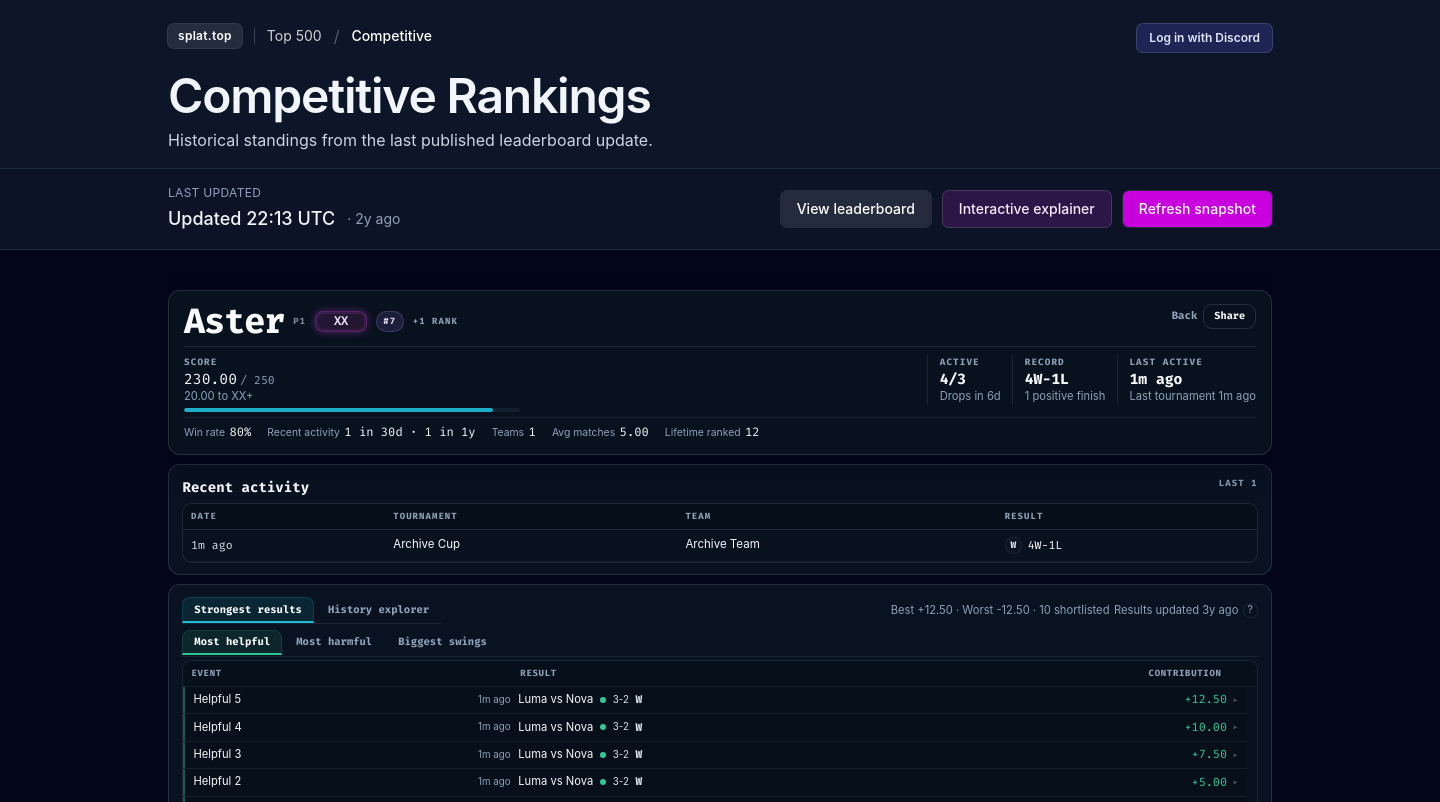
Test: CompetitionPlayerPage › switches between strongest results and history tabs
The width and height of the screenshot is (1440, 802).
Expected: the text "Helpful 5" is shown, [193,692,241,706]
Expected: the text "Harmful 5" is not shown
Click the button "Most harmful" at point(334, 642), box [284,630,384,655]
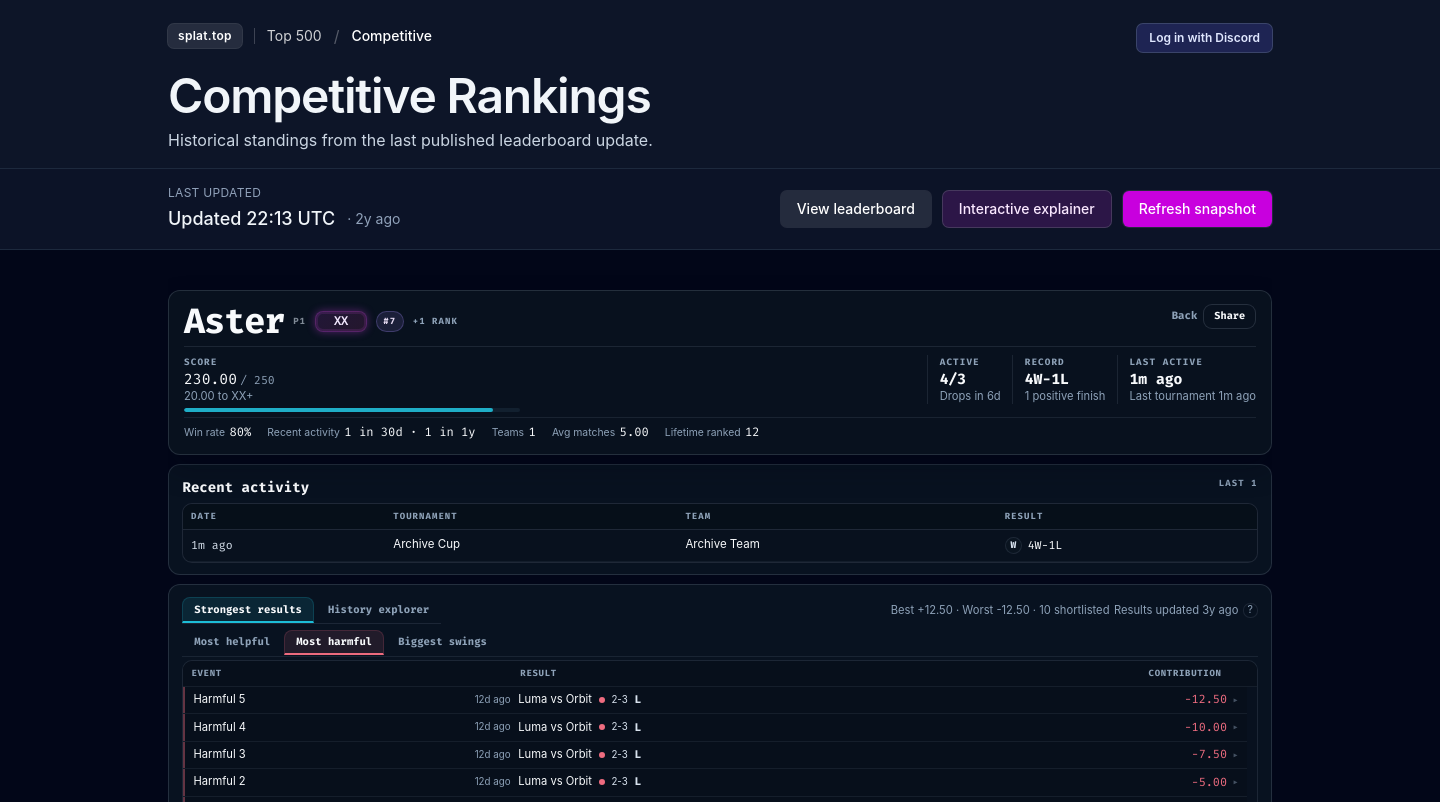
Now the text "Harmful 5" is shown, box [193,692,245,706]
Now the link "Helpful 5" is gone
Click the button "Biggest swings" at point(442, 642), box [386,630,499,655]
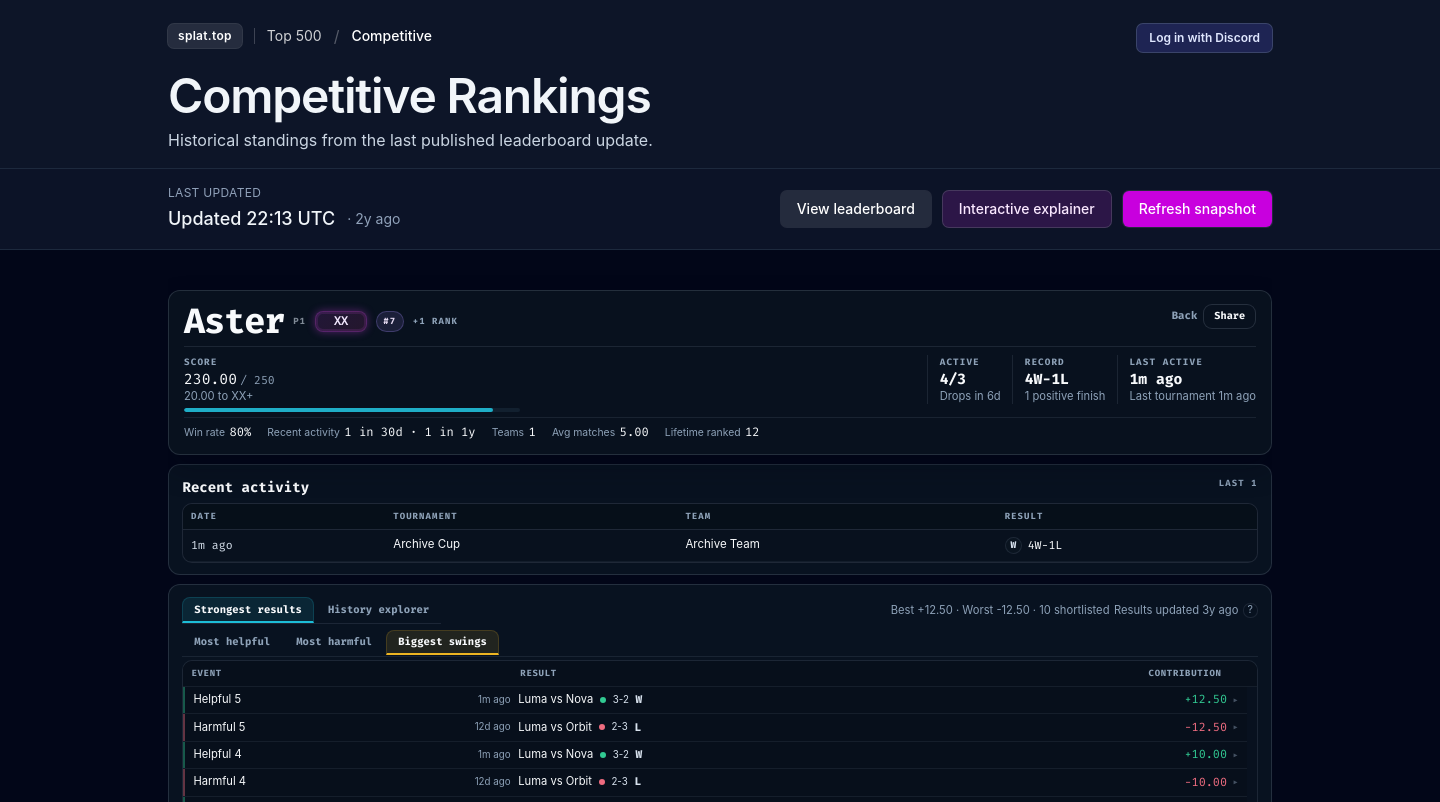
Now the text "Harmful 5" is shown, box [193,720,245,734]
Now the text "Helpful 5" is shown, box [193,692,241,706]
Click the tab "History explorer" at point(378, 610), box [316,597,441,622]
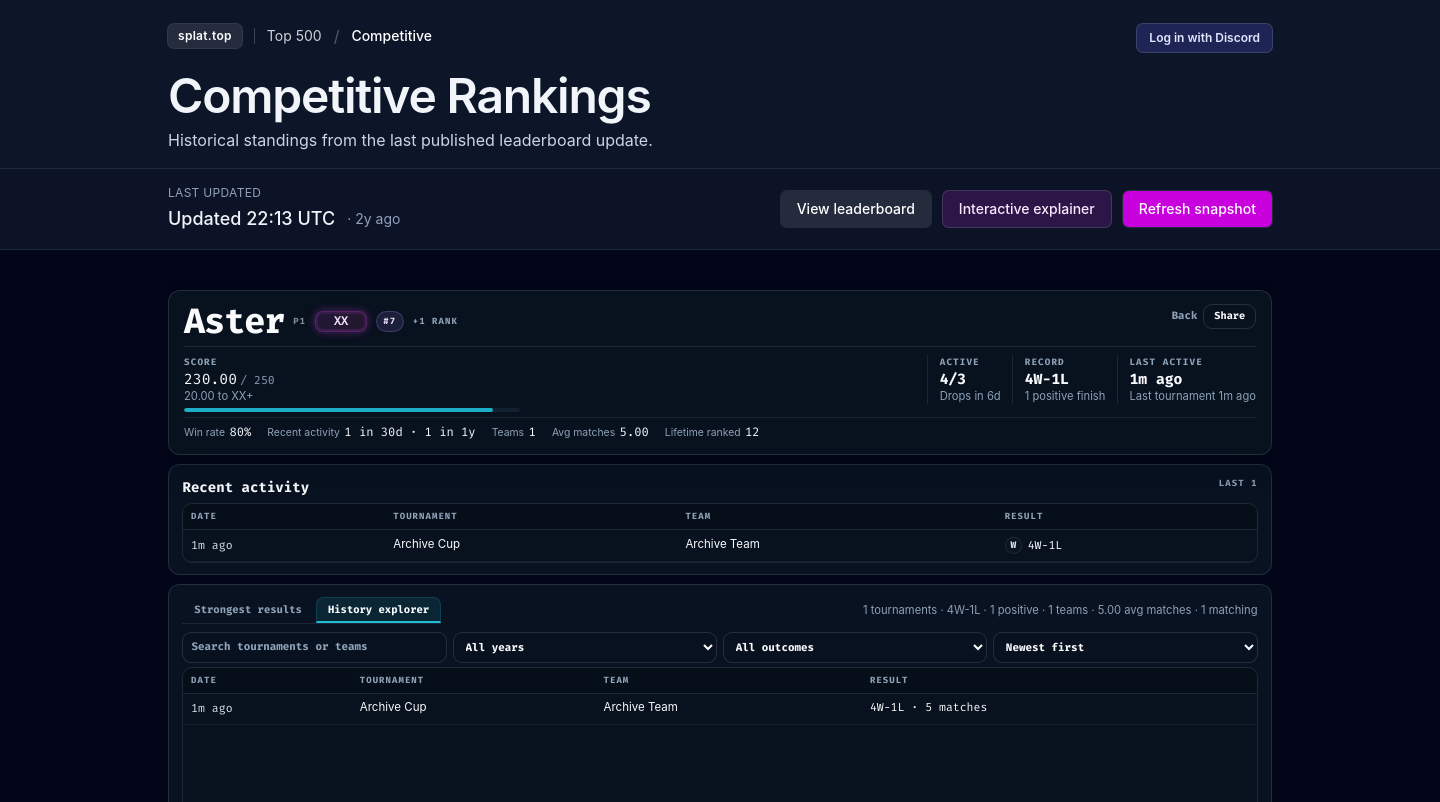
Expected: the 1st text "Archive Cup" is shown, [393,537,460,551]
Now the search field with placeholder "Search tournaments or teams" is shown, box [182,632,447,663]
Click the tab "Strongest results" at point(248, 610), box [182,597,314,622]
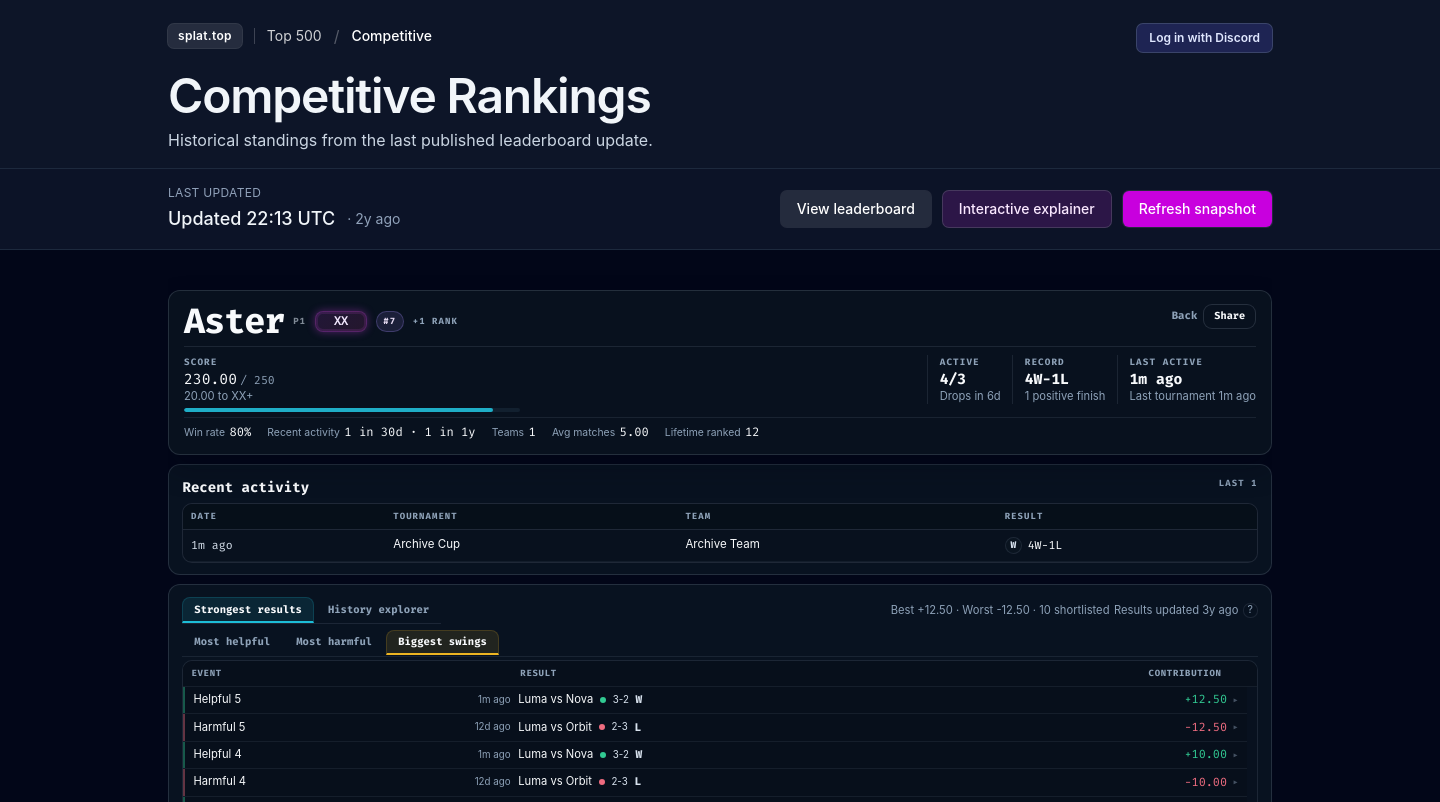
Now the text "Helpful 5" is shown, box [193,692,241,706]
